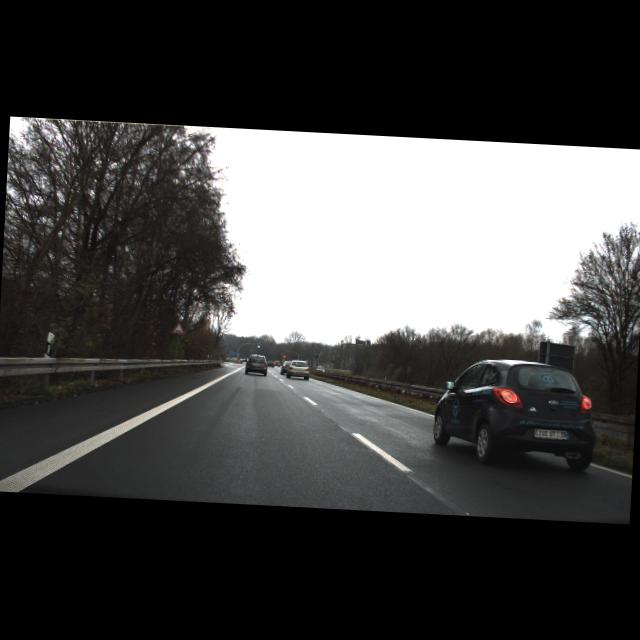danger: (172, 320, 188, 335)
